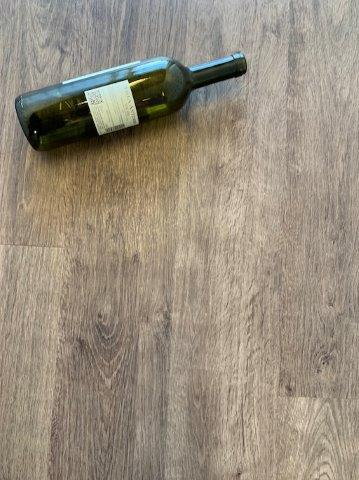botolkaca: (13, 53, 246, 152)
